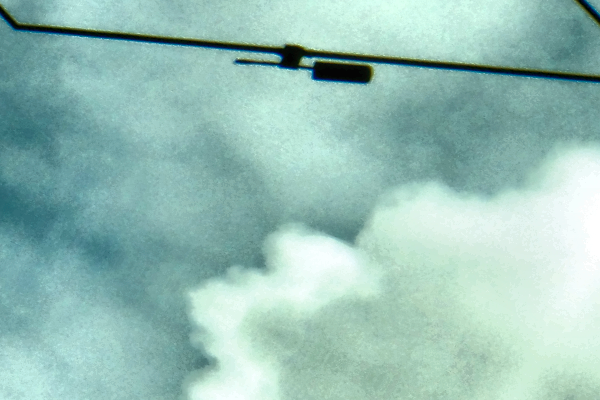damper_defect: (228, 39, 375, 87)
